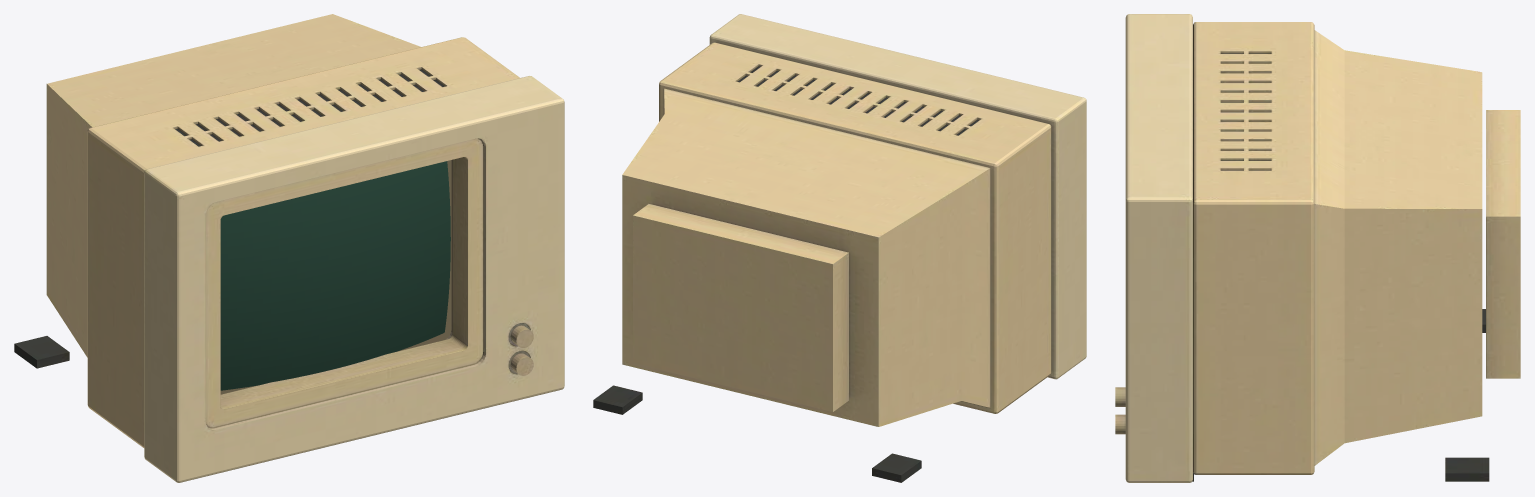
The model's file is crt-d.glb.
3 views of the same model, side by side, from view 1: azimuth 30°, elevation 25°; view 2: azimuth 150°, elevation 25°; view 3: azimuth 270°, elevation 25° (orthographic). The views are drawn at different scales.
Parts seen in each view (by area): view 1: case-baked, screen-glass; view 2: case-baked; view 3: case-baked.
Boxes of the visible parts, <box> form: case-baked: <box>14,14,564,482</box>; screen-glass: <box>220,161,450,390</box>; case-baked: <box>593,14,1086,482</box>; case-baked: <box>1115,14,1520,482</box>.
Bounding box in the file's own units: 0.38 × 0.28 × 0.35.
2 materials, 1 textured.
